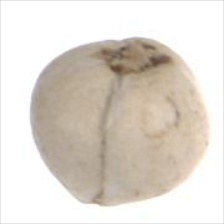L4: (29, 36, 209, 206)
